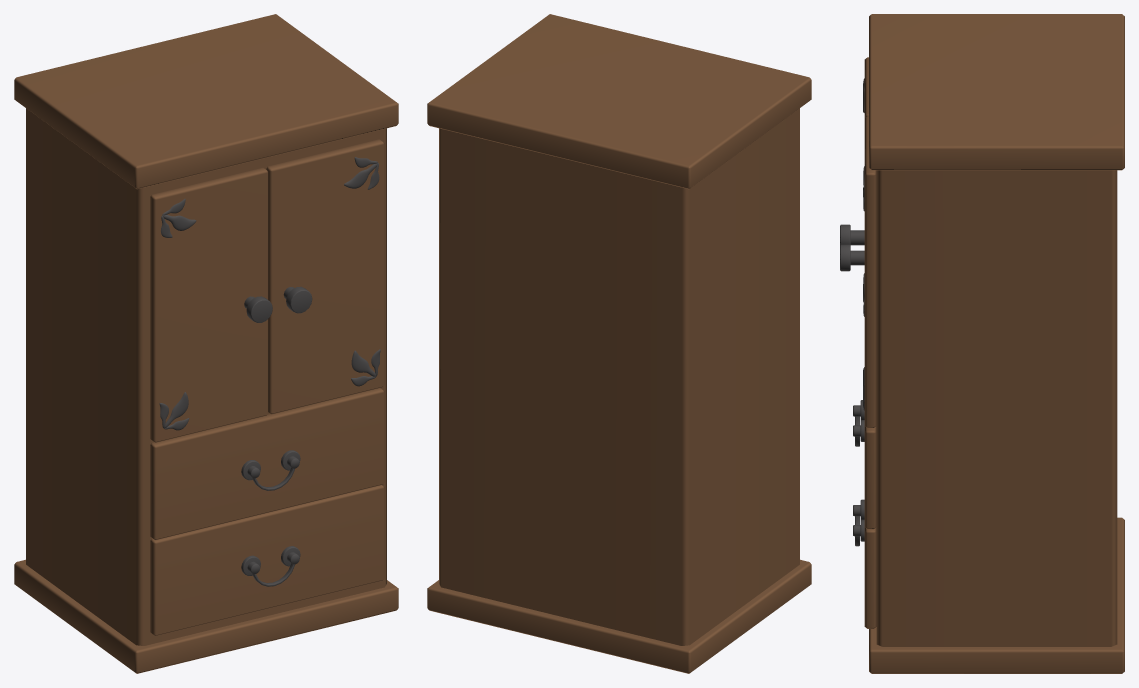
The model's file is Cabinet_16.glb.
The picture shows the model from 3 angles, left to right: view 1: azimuth 30°, elevation 25°; view 2: azimuth 150°, elevation 25°; view 3: azimuth 270°, elevation 25°; orthographic projection. The views are drawn at different scales.
Parts seen in each view (by area): view 1: Cabinet_16; view 2: Cabinet_16; view 3: Cabinet_16.
Part boxes in pixels (x1=…): Cabinet_16: x1=14, y1=14, x2=398, y2=673; Cabinet_16: x1=427, y1=14, x2=811, y2=673; Cabinet_16: x1=840, y1=14, x2=1124, y2=673.
Size of the model in its own units: 1.1 by 2.02 by 0.9888.
1 material, 1 textured.
